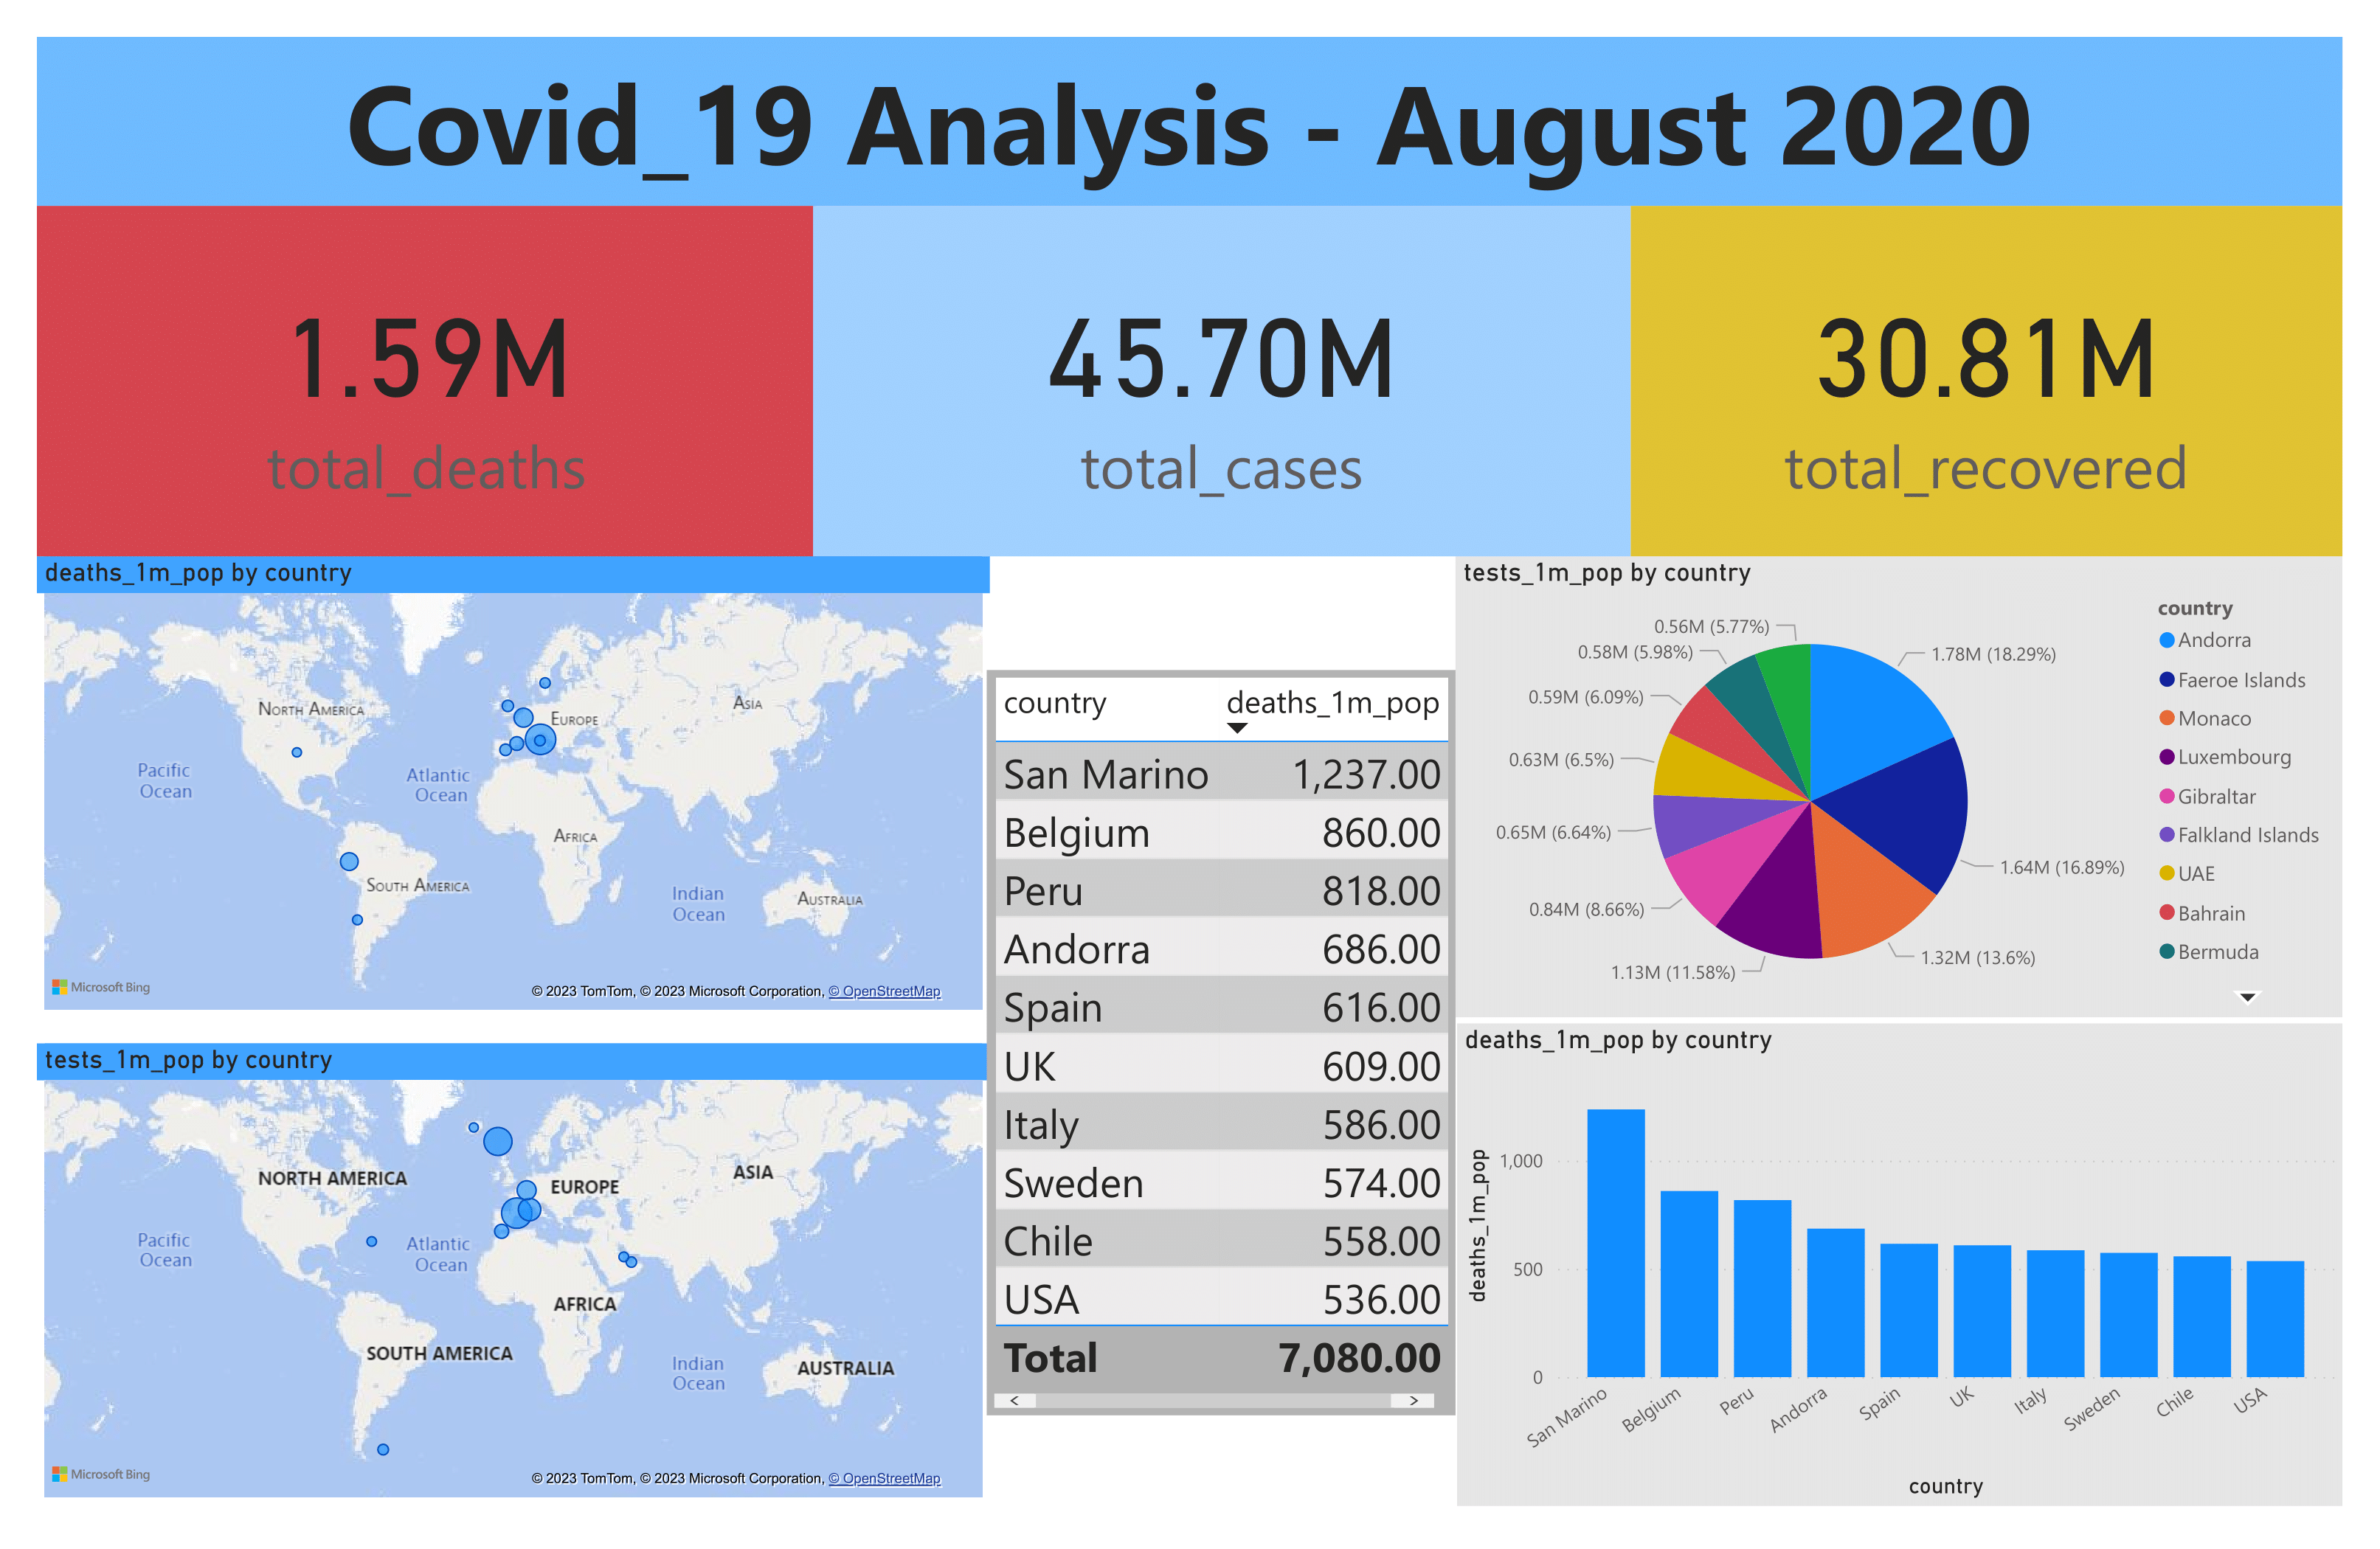

The dashboard page shown, as its layout file describes it:
{"tool":"powerbi","page":{"name":"COVID-19 Analysis","canvas":[1500,960],"ordinal":0},"visuals":[{"type":"textbox","box":[0,0,1500,110],"z":0},{"type":"map","fields":{"Category":["covid_19.country"],"Size":["covid_19.deaths_1m_pop"]},"box":[0,338.3,620,300],"z":1000},{"type":"map","fields":{"Category":["covid_19.country"],"Size":["covid_19.tests_1m_pop"]},"box":[0,655,620,300],"z":2000},{"type":"pieChart","fields":{"Category":["covid_19.country"],"Y":["covid_19.tests_1m_pop"]},"box":[923.3,338.3,576.7,300],"z":3000},{"type":"tableEx","fields":{"Values":["covid_19.country","covid_19.deaths_1m_pop"]},"box":[618.3,411.7,305,485],"z":4000},{"type":"clusteredColumnChart","fields":{"Category":["covid_19.country"],"Y":["covid_19.deaths_1m_pop"]},"box":[924,642,576,314],"z":5000},{"type":"card","fields":{"Values":["covid_19.total_deaths"]},"box":[0,110,506.7,228.3],"z":6000},{"type":"card","fields":{"Values":["covid_19.total_cases"]},"box":[505,110,531.7,228.3],"z":7000},{"type":"card","fields":{"Values":["covid_19.total_recovered"]},"box":[1036.7,110,463.3,228.3],"z":8000}]}

Visuals, with their boxes on the page's 1500x960 design canvas (x1, y1, x2, y2). These are canvas units, not pixel positions in the 2380x1549 screenshot, which may show the page scaled, cropped or inside an application window:
textbox: 0, 0, 1500, 110
map - covid_19.country x covid_19.deaths_1m_pop: 0, 338, 620, 638
map - covid_19.country x covid_19.tests_1m_pop: 0, 655, 620, 955
pieChart - covid_19.country x covid_19.tests_1m_pop: 923, 338, 1500, 638
tableEx - covid_19.country x covid_19.deaths_1m_pop: 618, 412, 923, 897
clusteredColumnChart - covid_19.country x covid_19.deaths_1m_pop: 924, 642, 1500, 956
card - covid_19.total_deaths: 0, 110, 507, 338
card - covid_19.total_cases: 505, 110, 1037, 338
card - covid_19.total_recovered: 1037, 110, 1500, 338
